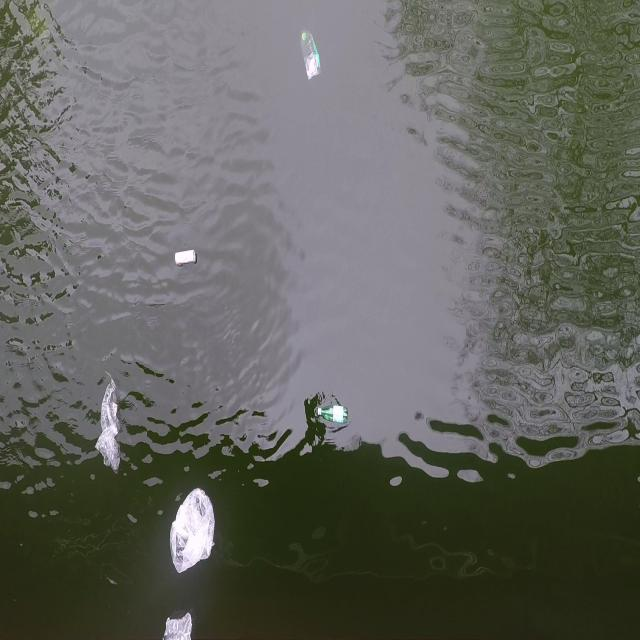Bouteille plastique: (315, 401, 349, 428)
Non plastique: (170, 244, 202, 275)
Sac plastique: (164, 475, 224, 580), (90, 369, 126, 479)
